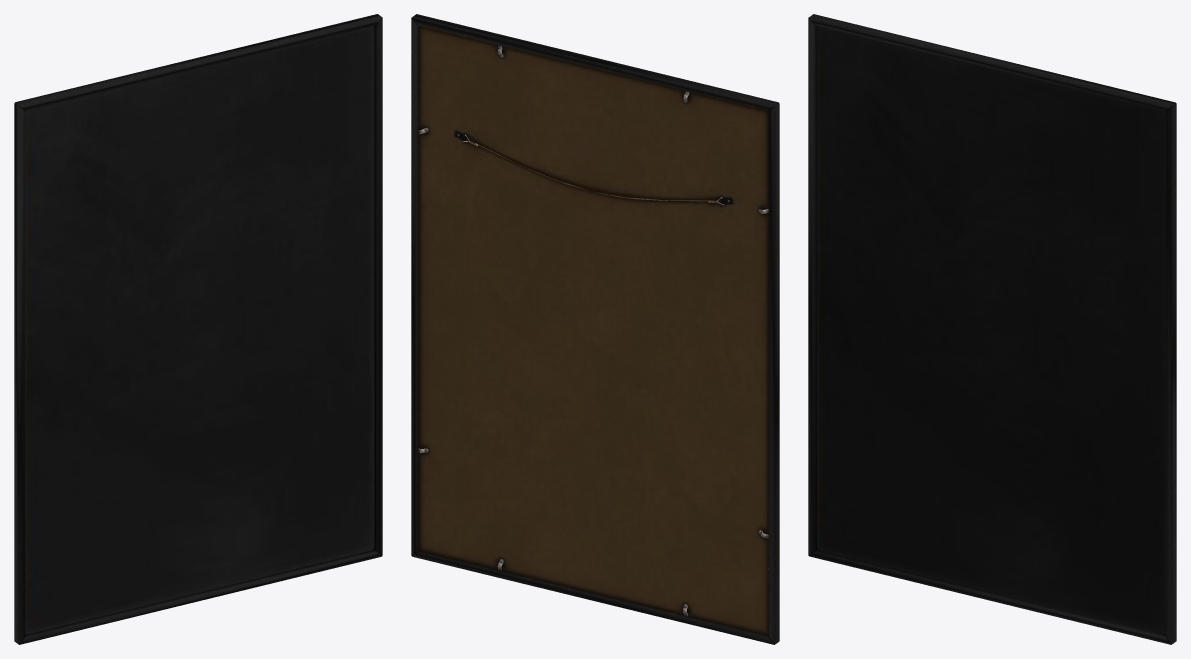
Rendered from hanging_picture_frame_01.glb.
3 views of the same model, side by side, from view 1: azimuth 30°, elevation 25°; view 2: azimuth 150°, elevation 25°; view 3: azimuth 330°, elevation 25° (orthographic).
Parts seen in each view (by area): view 1: hanging_picture_frame_01; view 2: hanging_picture_frame_01; view 3: hanging_picture_frame_01.
Boxes of the visible parts, x1,y1,x2,y2 form: hanging_picture_frame_01: (14,14,382,644); hanging_picture_frame_01: (411,14,779,644); hanging_picture_frame_01: (808,14,1176,644).
Size of the model in its own units: 0.5935 by 0.8406 by 0.0154.
Materials: 3 (3 with a texture image).
